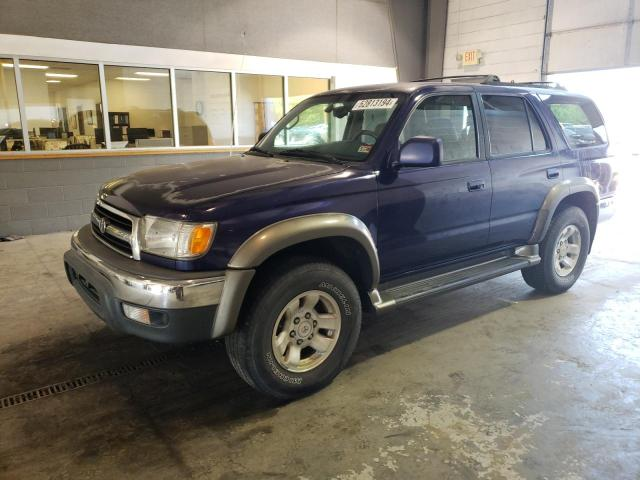car: (60, 69, 626, 402)
